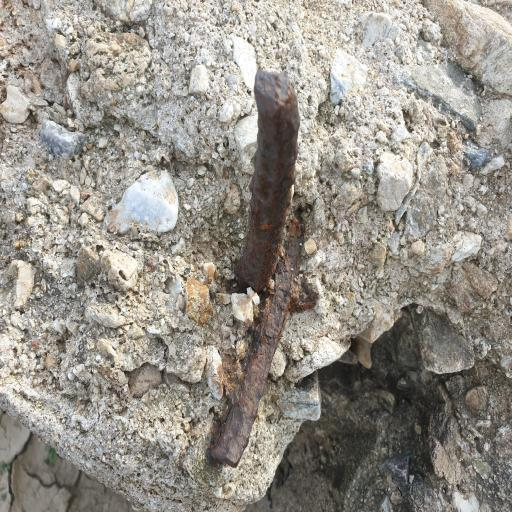exposed_rebar: (210, 236, 318, 468), (237, 69, 300, 292)
